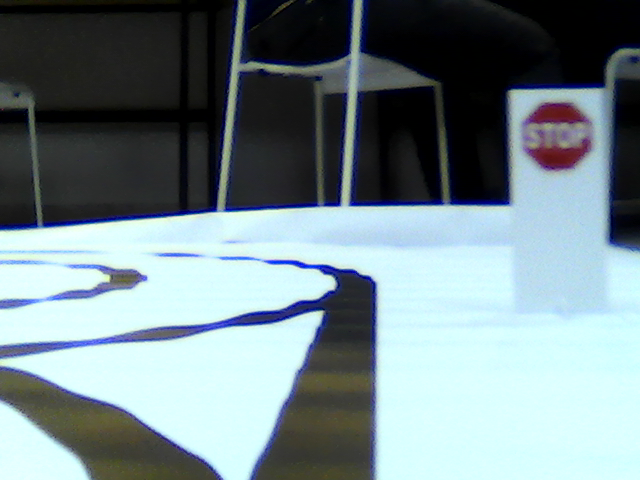Stop: (522, 101, 598, 179)
